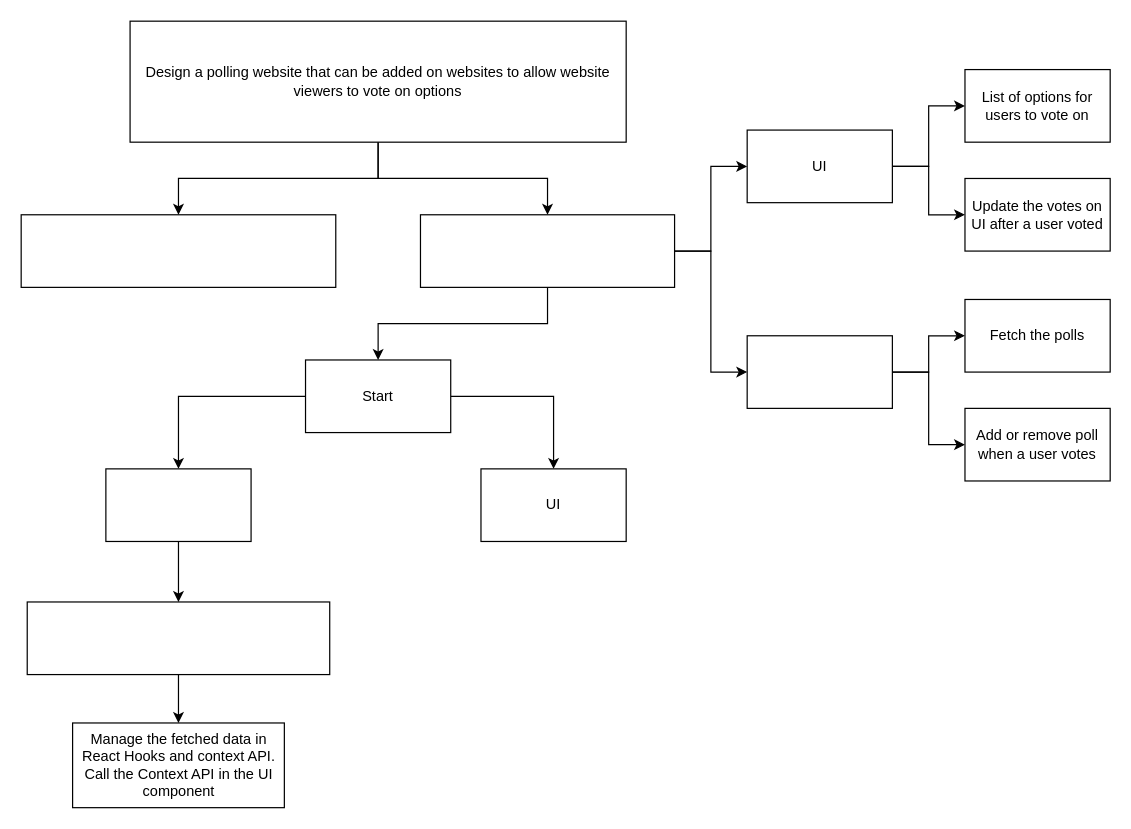
Some shapes in this 1131 by 829 pixel diagram are drawn without their labels. The box of each missing label's shape, as (x1, y1, x2, y2) in pixels:
API: (105, 468, 251, 541)
Backend: (746, 335, 892, 408)
Create a React Component to fetch API using axios, js fetch API: (26, 601, 330, 675)
Requirements: (419, 214, 675, 287)
Website usually on desktop and mobile screen: (20, 214, 336, 287)
